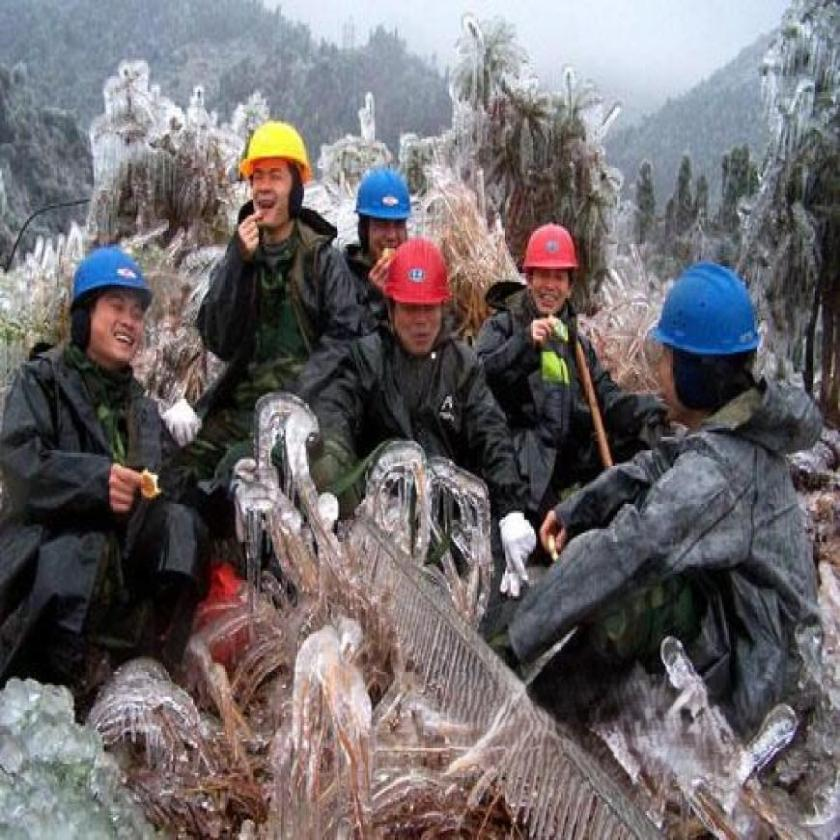Con_casco: (648, 255, 759, 435), (68, 246, 158, 366), (238, 111, 310, 242), (384, 231, 448, 366), (524, 216, 578, 321), (356, 166, 412, 258)
